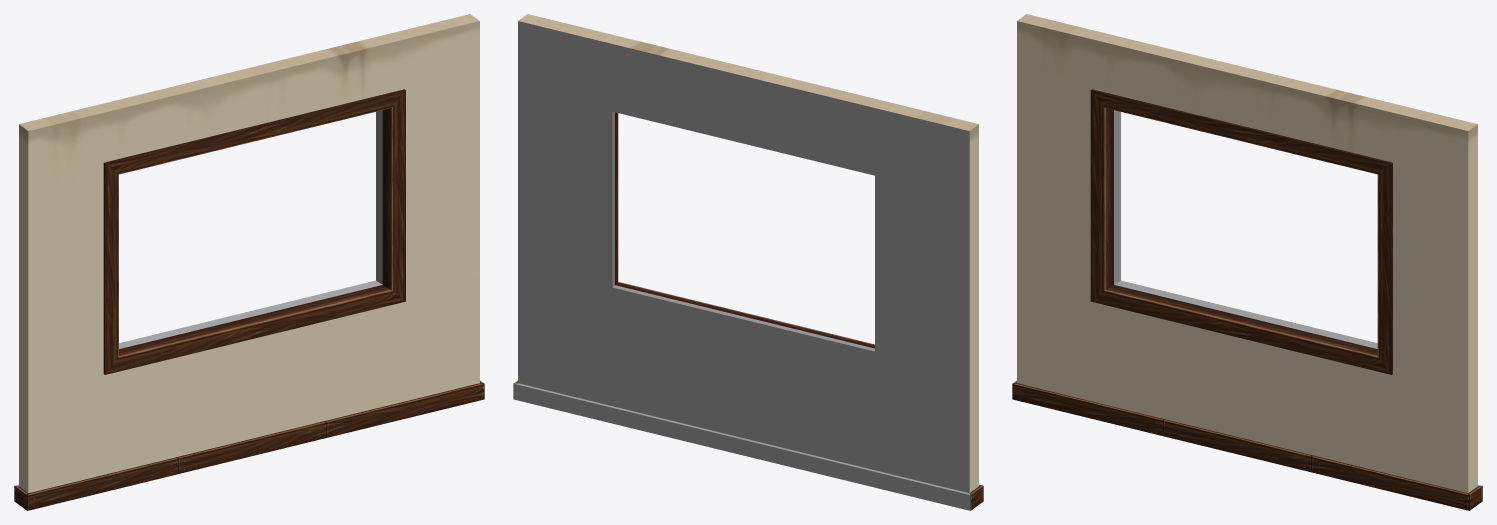
The model's file is WallTXTest.fbx.
3 renders of one model, left to right at view 1: azimuth 30°, elevation 25°; view 2: azimuth 150°, elevation 25°; view 3: azimuth 330°, elevation 25°, orthographic.
Parts seen in each view (by area): view 1: CZ_3mWindow02; view 2: CZ_3mWindow02; view 3: CZ_3mWindow02.
Part boxes in pixels (bbox=[...]): CZ_3mWindow02: bbox=[14, 14, 484, 510]; CZ_3mWindow02: bbox=[513, 14, 983, 510]; CZ_3mWindow02: bbox=[1012, 14, 1482, 510].
Size of the model in its own units: 3.04 by 2.4 by 0.1496.
Materials: 2 (1 with a texture image).
